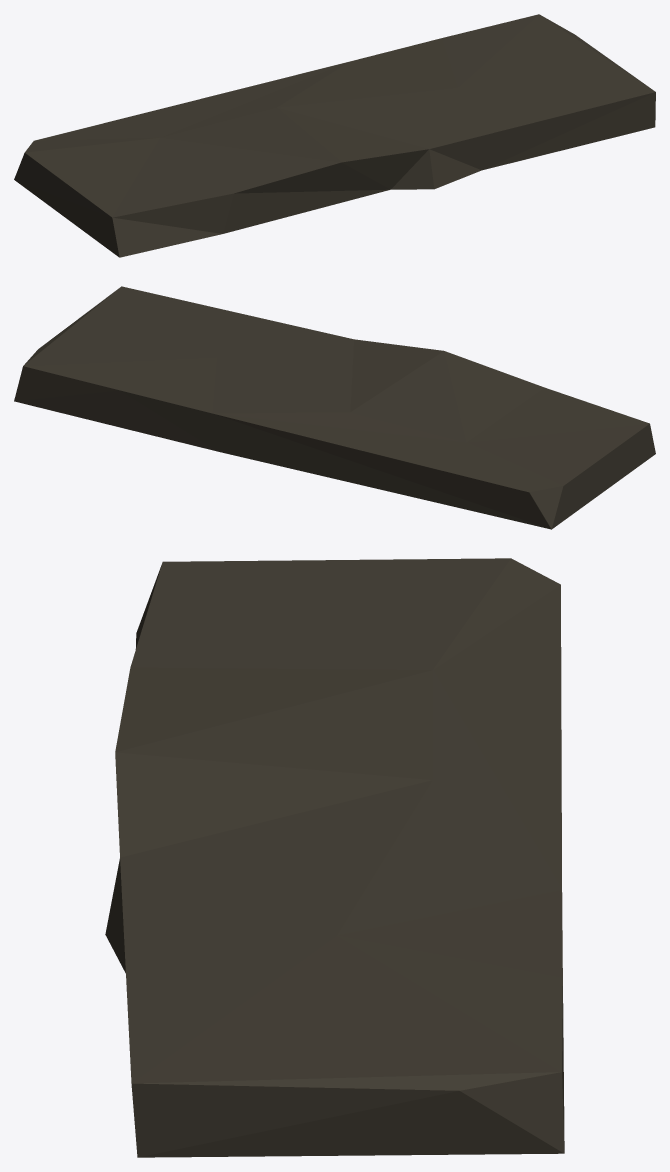
File: Stairs_1_LOD_1.fbx
3 views of the same model, one above another, from view 1: azimuth 30°, elevation 25°; view 2: azimuth 150°, elevation 25°; view 3: azimuth 270°, elevation 25° (orthographic). The views are drawn at different scales.
Parts seen in each view (by area): view 1: Group34452; view 2: Group34452; view 3: Group34452.
Part boxes in pixels (box(x1,y1,x2,y2)): Group34452: box(14, 14, 655, 257); Group34452: box(14, 286, 655, 529); Group34452: box(105, 558, 564, 1157).
Size of the model in its own units: 6.45 by 0.5397 by 2.38.
